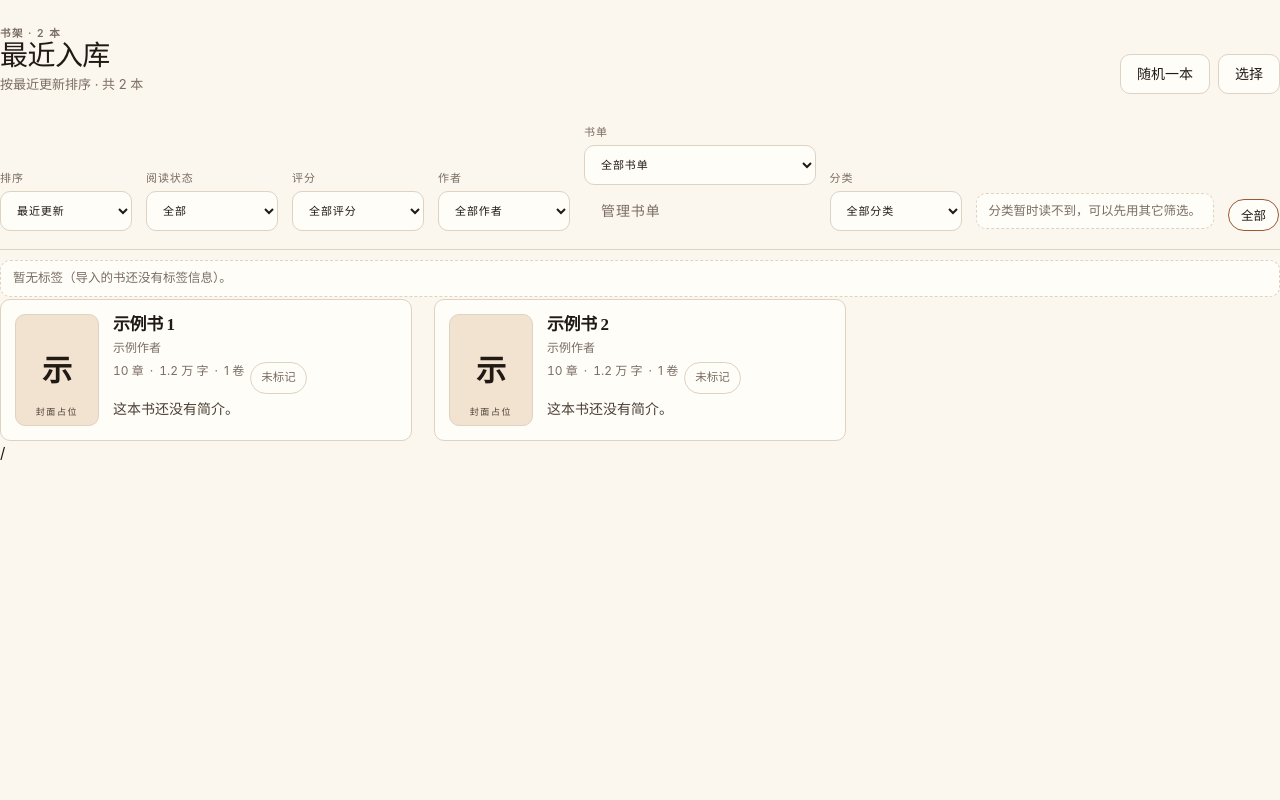
书架：多选与批量设作者 › 选中 2 本后循环 PATCH，全部成功后收工并退出选择模式
Step 1. Click the button with test id "shelf-select-toggle" → (1249, 74), box [1218,54,1279,94]
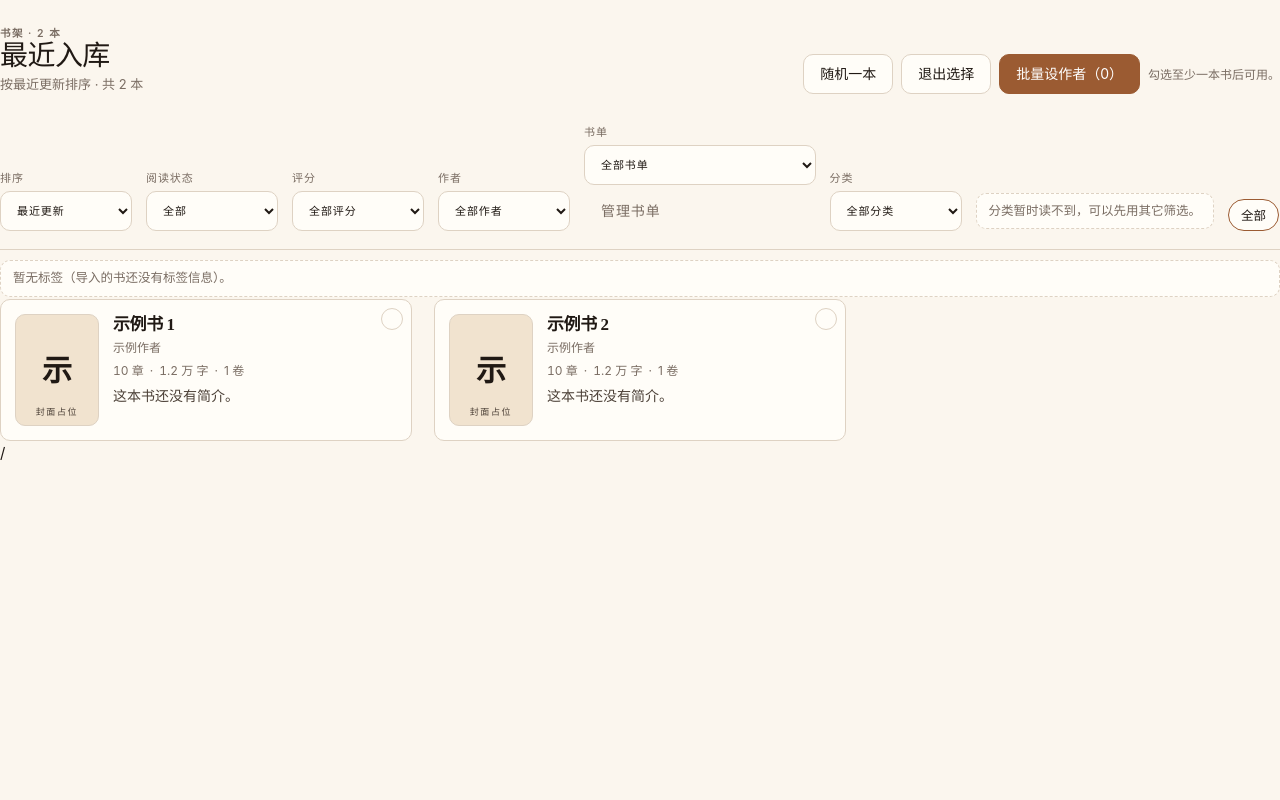
Step 2. Click the button with test id "book-select-1" → (206, 370), box [15,314,397,426]
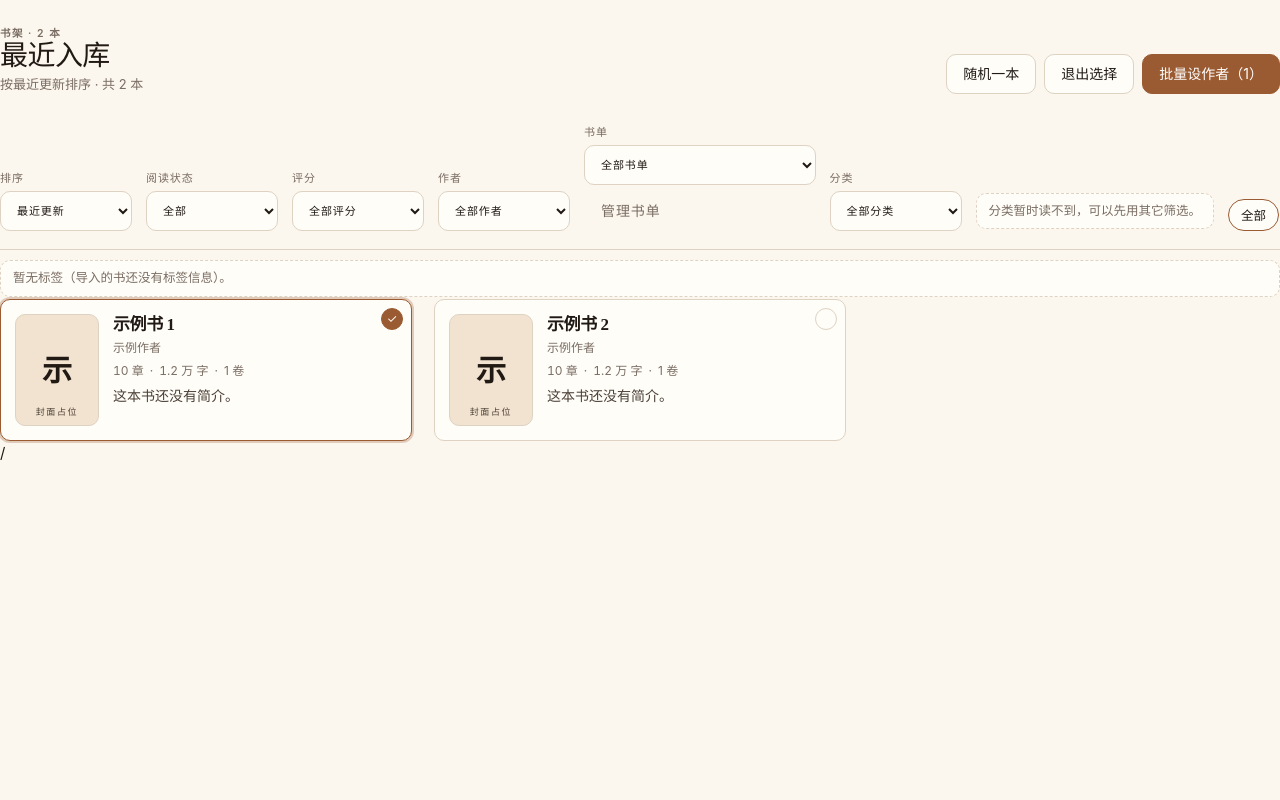
Step 3. Click the button with test id "book-select-2" → (640, 370), box [449,314,831,426]
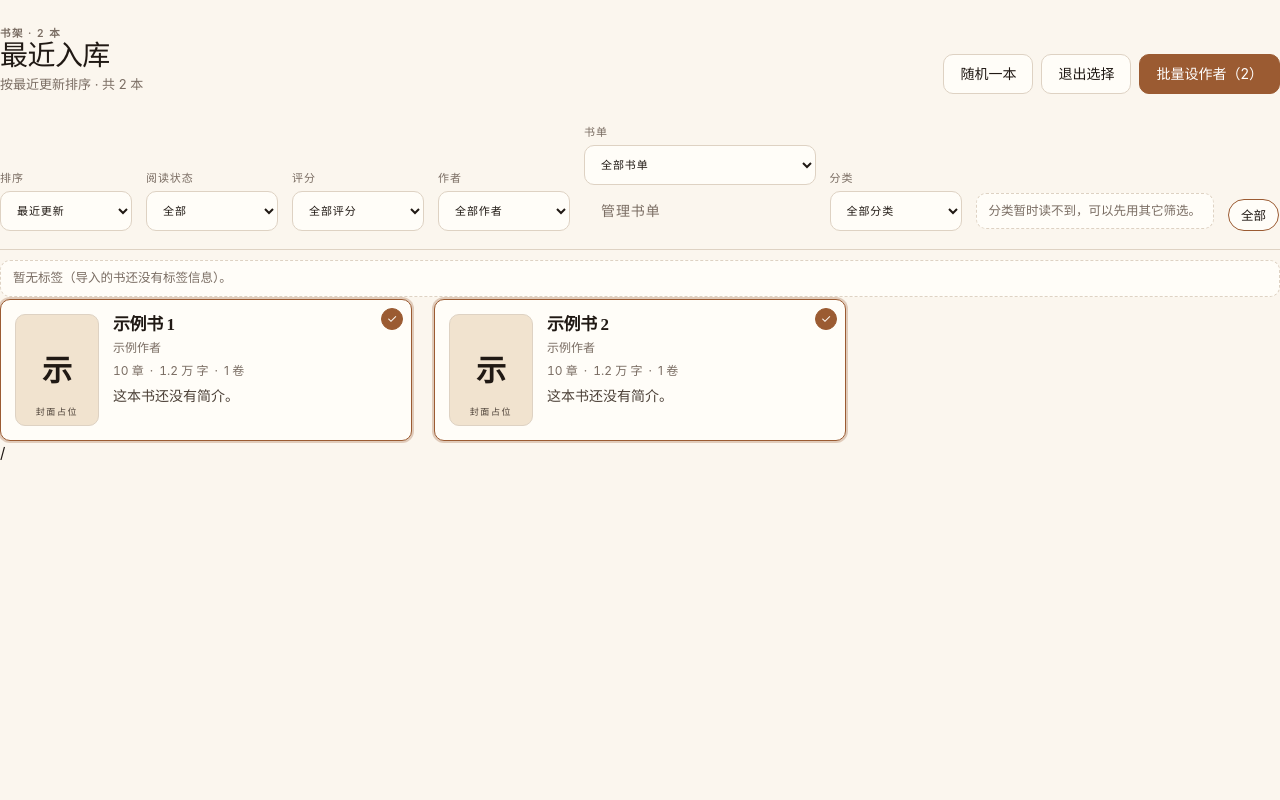
Result: the button with test id "shelf-batch-author" shows "（2）"
Step 4. Click the button with test id "shelf-batch-author" → (1210, 74), box [1140,54,1279,94]
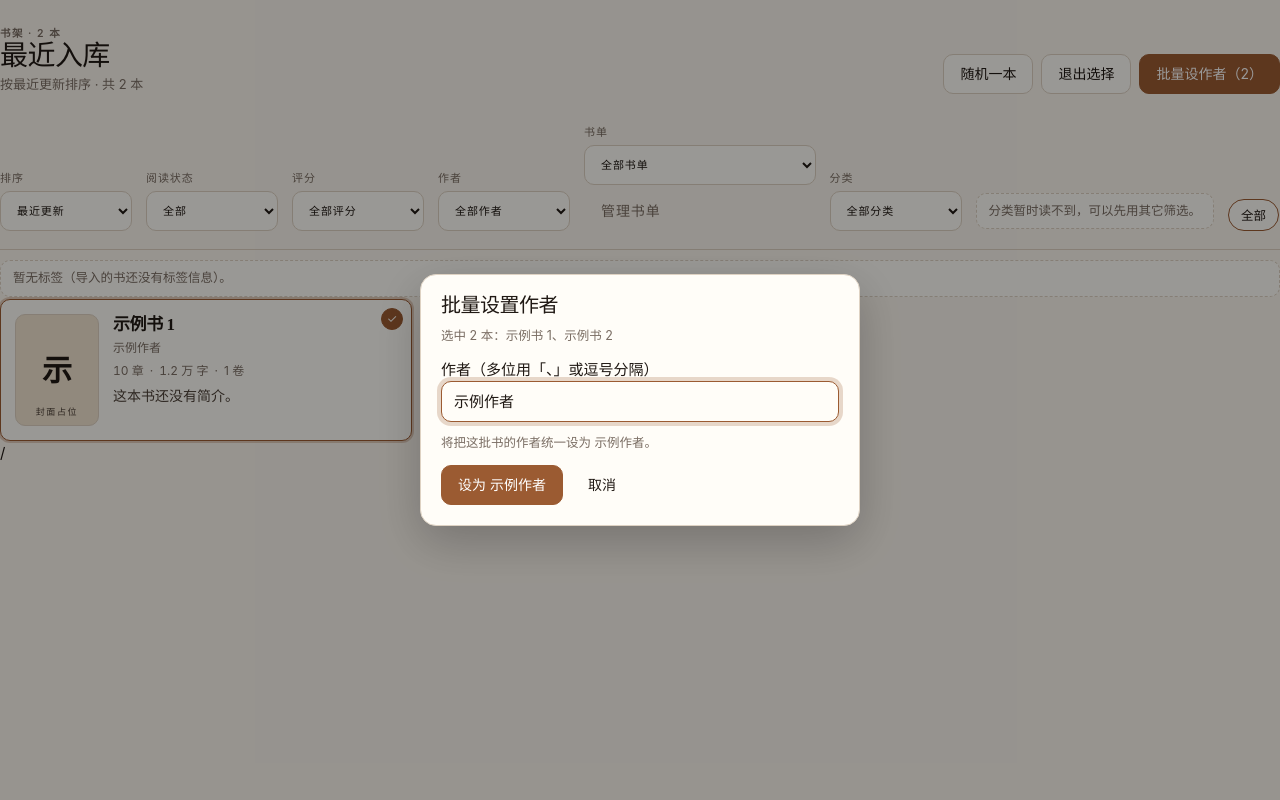
Step 5. Replace the text in the field labelled "作者（多位用「、」或逗号分隔）" with "张三、李四" → (640, 402), box [441,381,839,422]
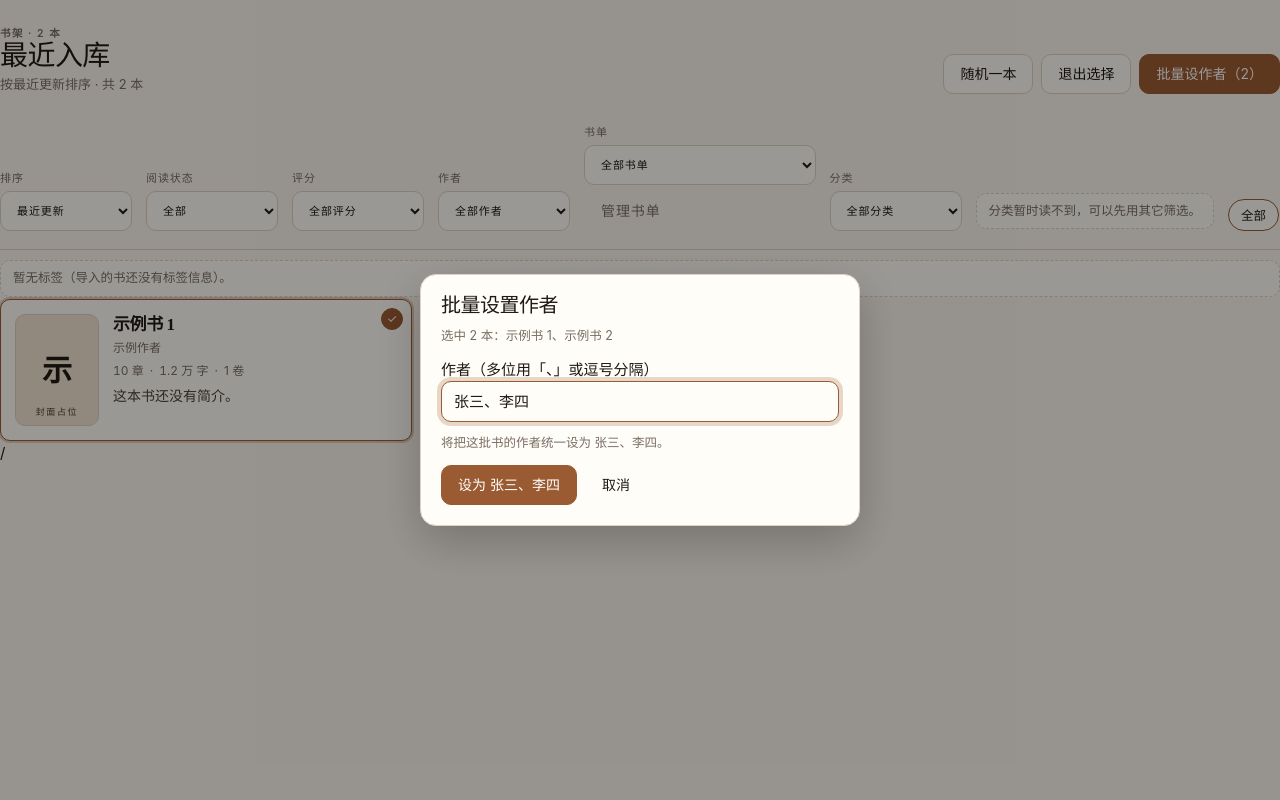
Step 6. Click the button with test id "batch-author-confirm" → (509, 485), box [441,465,577,505]
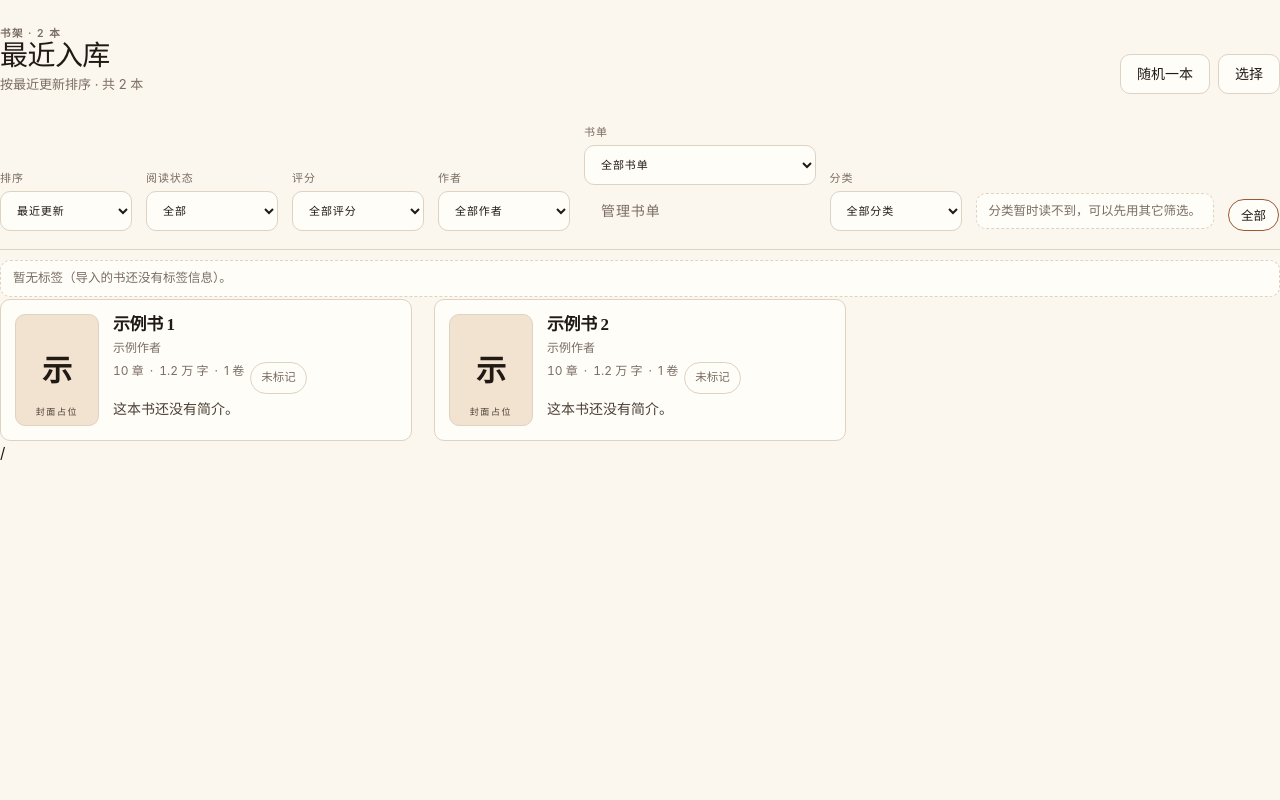
Result: the element with test id "batch-author-dialog" is gone
Result: the button with test id "book-select-1" is gone
